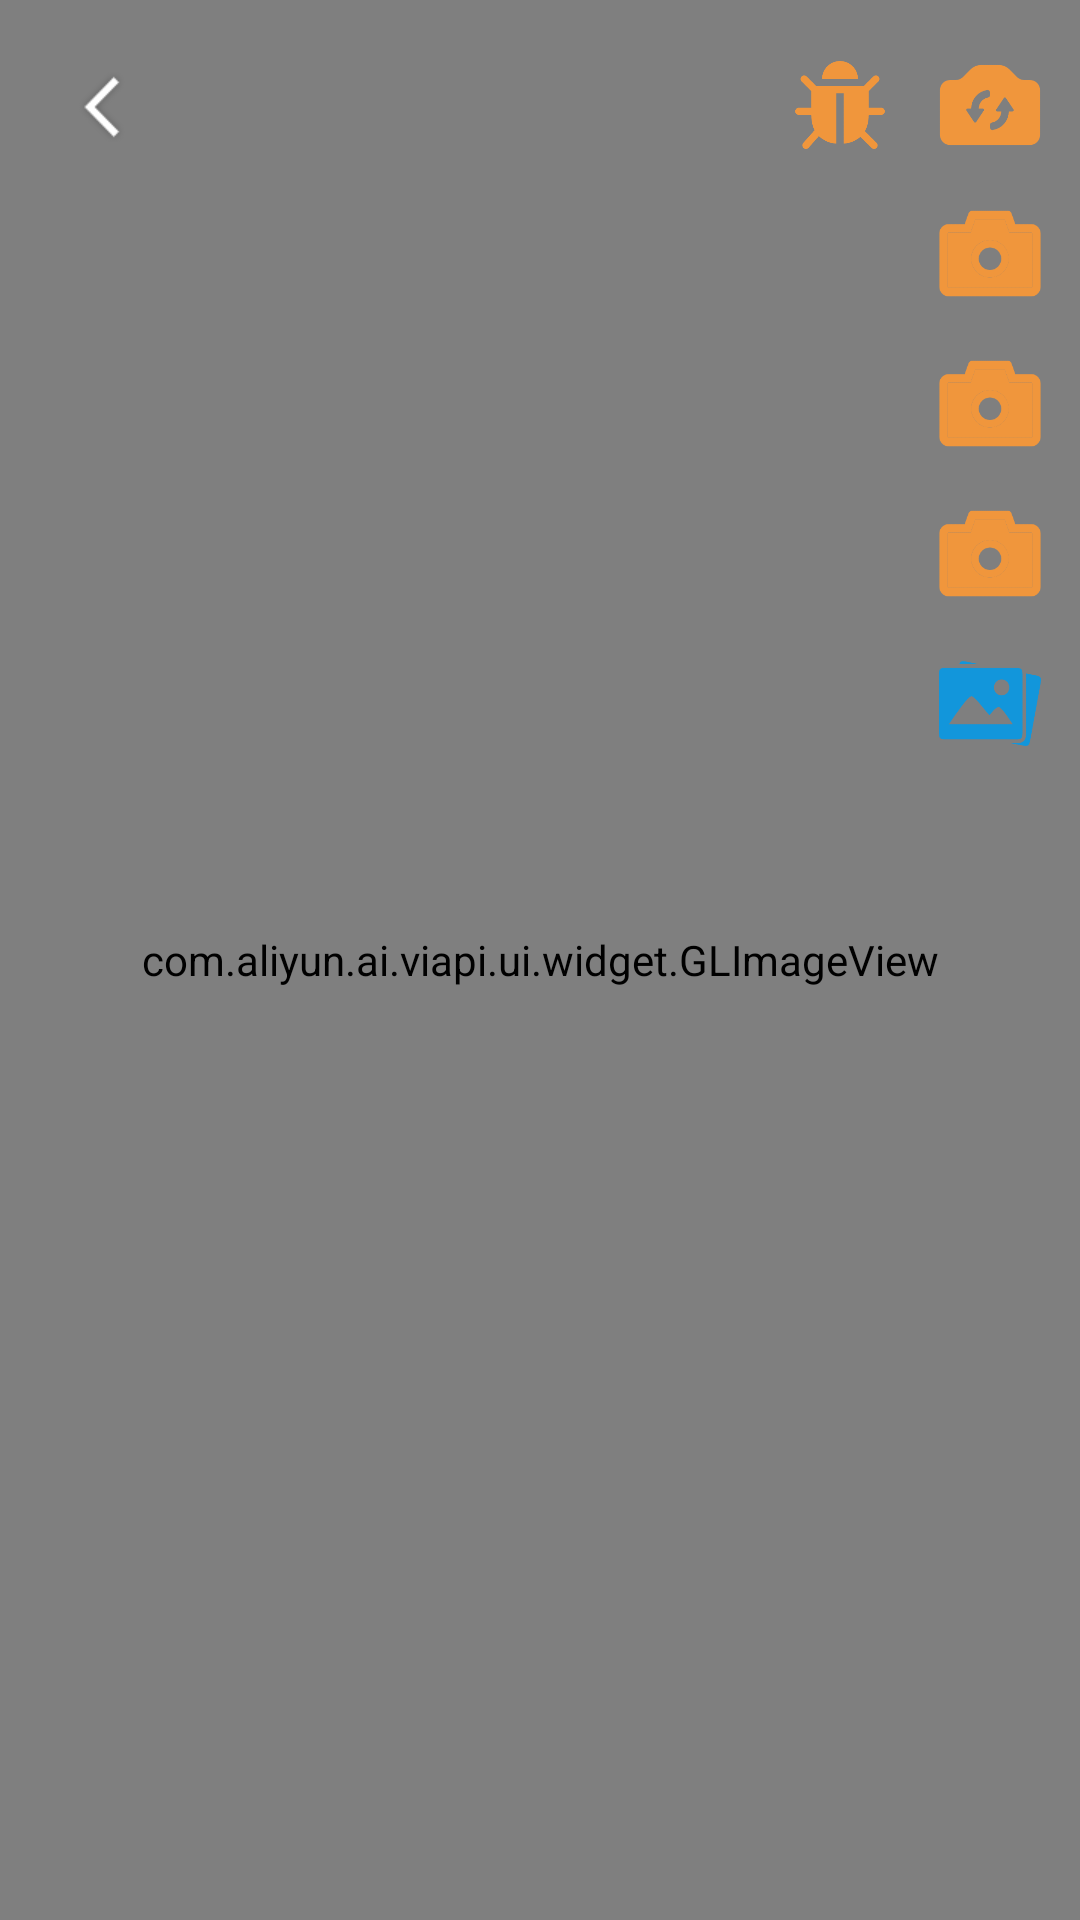

Icons on this 1080×1920 Android screen, each with its box as (x1, y1, x2, y2):
arrow: (85, 77, 119, 137)
camera: (939, 211, 1041, 297), (939, 361, 1041, 447), (939, 511, 1041, 597)
debug: (795, 61, 885, 149)
switch camera: (940, 65, 1040, 145)
